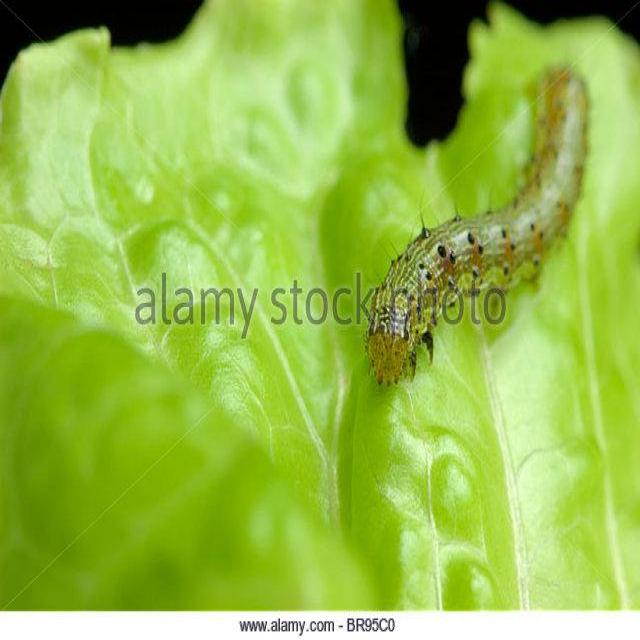armyworm: (359, 42, 597, 423)
